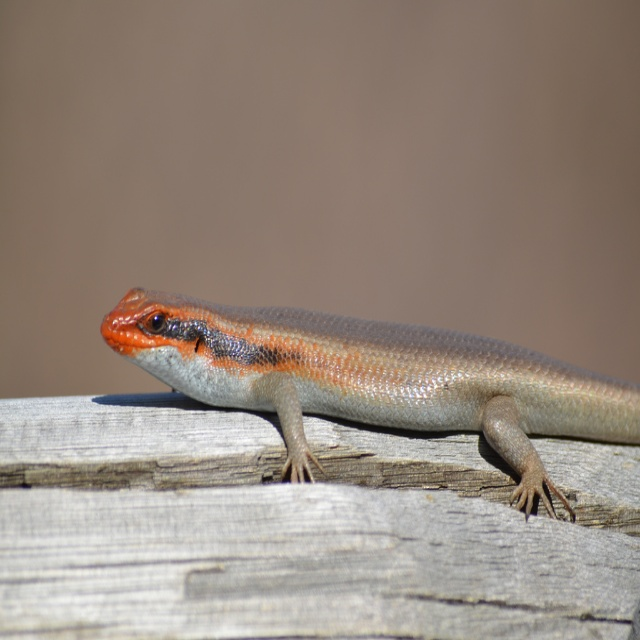Lizard: (100, 286, 640, 524)
